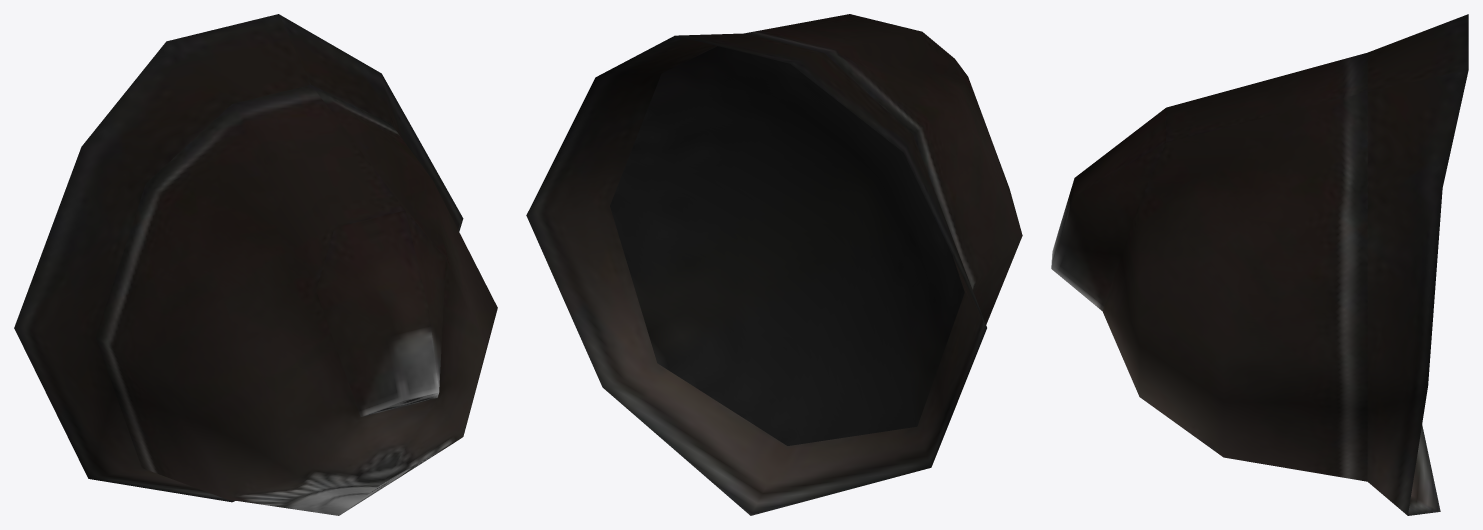
Rendered from tt_m_chr_avt_acc_hat_bobbyHat.glb.
3 renders of one model, left to right at view 1: azimuth 30°, elevation 25°; view 2: azimuth 150°, elevation 25°; view 3: azimuth 270°, elevation 25°, orthographic. The views are drawn at different scales.
Visible parts, largest first — view 1: tt_m_chr_avt_acc_hat_bobbyhat; view 2: tt_m_chr_avt_acc_hat_bobbyhat; view 3: tt_m_chr_avt_acc_hat_bobbyhat.
Boxes of the visible parts, bbox=[...] form: tt_m_chr_avt_acc_hat_bobbyhat: bbox=[14, 14, 497, 515]; tt_m_chr_avt_acc_hat_bobbyhat: bbox=[526, 14, 1022, 515]; tt_m_chr_avt_acc_hat_bobbyhat: bbox=[1051, 14, 1468, 515].
Bounding box in the file's own units: 4.83 × 4.76 × 3.82.
Materials: 1 (1 with a texture image).
